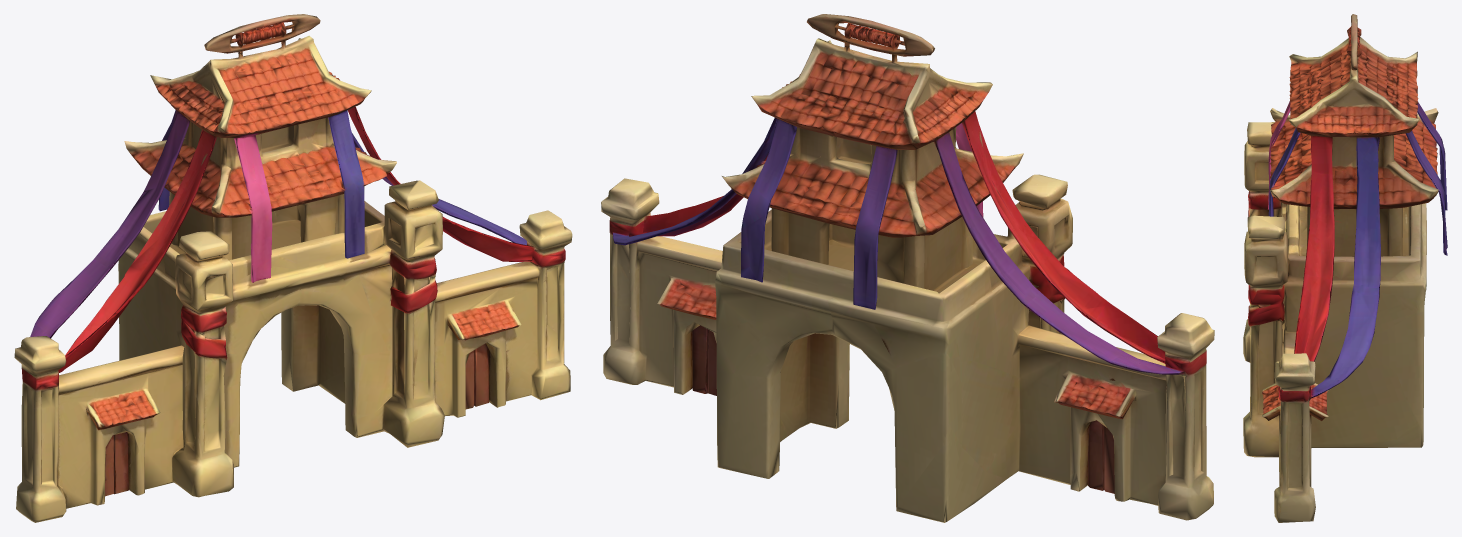
File: cong-lang-det-vua.52a133fb.glb
The picture shows the model from 3 angles, left to right: view 1: azimuth 30°, elevation 25°; view 2: azimuth 150°, elevation 25°; view 3: azimuth 270°, elevation 25°; orthographic projection. The views are drawn at different scales.
Parts seen in each view (by area): view 1: tripo_node_4edadad4-5720-47c2-8cad-e43b7fd33daa; view 2: tripo_node_4edadad4-5720-47c2-8cad-e43b7fd33daa; view 3: tripo_node_4edadad4-5720-47c2-8cad-e43b7fd33daa.
Part boxes in pixels (x1,y1,x2,y2): tripo_node_4edadad4-5720-47c2-8cad-e43b7fd33daa: [14, 14, 572, 522]; tripo_node_4edadad4-5720-47c2-8cad-e43b7fd33daa: [601, 14, 1214, 522]; tripo_node_4edadad4-5720-47c2-8cad-e43b7fd33daa: [1243, 14, 1447, 522].
Bounding box in the file's own units: 0.9781 × 0.7028 × 0.3492.
1 material, 1 textured.
